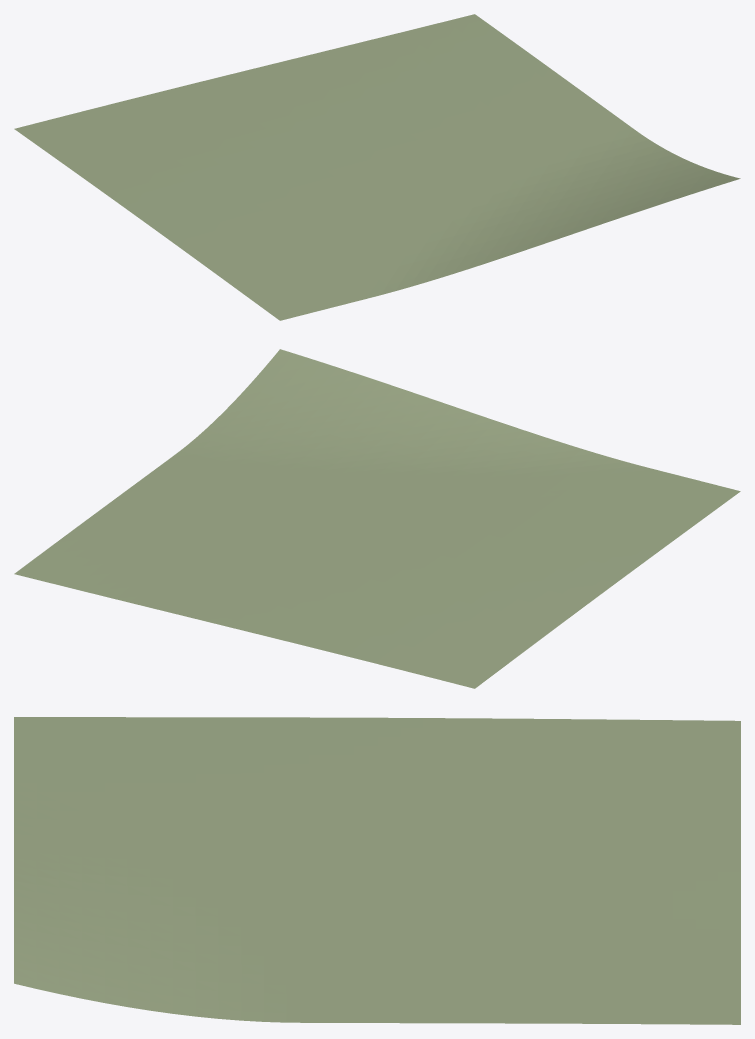
The model's file is desert-19-14.glb.
3 renders of one model, top to bottom at view 1: azimuth 30°, elevation 25°; view 2: azimuth 150°, elevation 25°; view 3: azimuth 270°, elevation 25°, orthographic. The views are drawn at different scales.
Parts seen in each view (by area): view 1: desert-19-14; view 2: desert-19-14; view 3: desert-19-14.
Part boxes in pixels (box(x1,y1,x2,y2)): desert-19-14: box(14, 14, 740, 320); desert-19-14: box(14, 349, 740, 688); desert-19-14: box(14, 717, 740, 1024).
Bounding box in the file's own units: 512 × 34.54 × 512.
